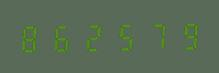eight: (17, 21, 46, 54)
five: (108, 20, 137, 52)
nine: (168, 18, 197, 51)
seven: (138, 19, 167, 51)
six: (47, 21, 76, 53)
two: (78, 20, 107, 53)
